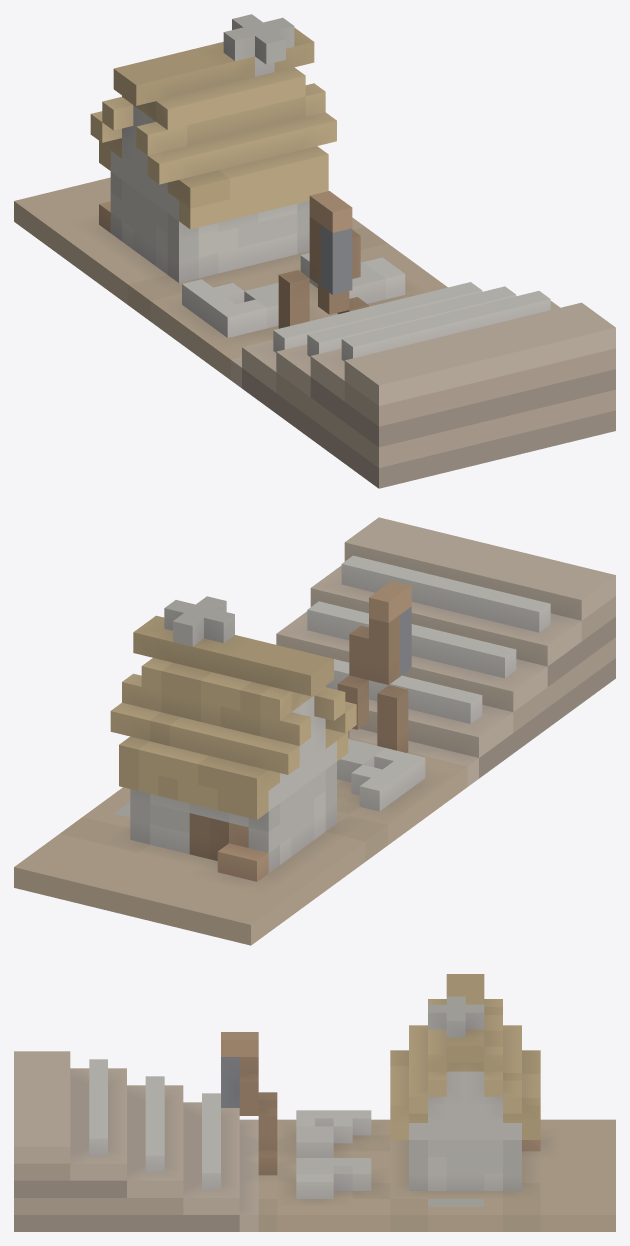
Rendered from quarry.lite.glb.
3 renders of one model, top to bottom at view 1: azimuth 30°, elevation 25°; view 2: azimuth 150°, elevation 25°; view 3: azimuth 270°, elevation 25°, orthographic. The views are drawn at different scales.
Parts seen in each view (by area): view 1: quarry; view 2: quarry; view 3: quarry.
Boxes of the visible parts, bbox=[...] form: quarry: bbox=[14, 14, 615, 488]; quarry: bbox=[14, 517, 615, 945]; quarry: bbox=[14, 974, 615, 1231].
Size of the model in its own units: 3 by 2.75 by 8.
